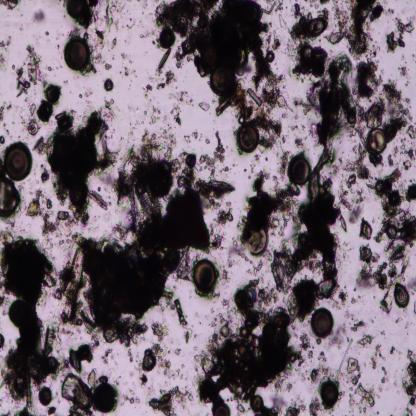Background material: (143, 0, 288, 150), (74, 210, 178, 330), (31, 96, 122, 222), (221, 278, 306, 399), (271, 198, 345, 308), (290, 54, 359, 138), (111, 129, 182, 210), (0, 310, 53, 405), (237, 171, 304, 244), (0, 229, 54, 319), (326, 0, 386, 58), (190, 336, 226, 412), (366, 168, 406, 226), (353, 245, 396, 291), (98, 311, 148, 348), (13, 43, 44, 97), (287, 40, 328, 79), (60, 372, 94, 416), (197, 133, 231, 176), (352, 57, 384, 102), (149, 387, 192, 416), (0, 171, 23, 222), (195, 174, 236, 202), (385, 17, 415, 55), (341, 143, 370, 180), (59, 291, 88, 326), (382, 79, 408, 117), (50, 258, 74, 298), (41, 211, 76, 238), (380, 273, 402, 314), (402, 348, 416, 406), (242, 152, 271, 180), (363, 97, 386, 131), (287, 11, 312, 42), (81, 310, 101, 348), (398, 209, 416, 250), (141, 342, 164, 374), (336, 340, 354, 380), (90, 30, 106, 74), (382, 114, 407, 142), (104, 0, 128, 29), (78, 0, 101, 30), (226, 238, 247, 269), (155, 353, 179, 380), (325, 322, 347, 351), (283, 392, 307, 416), (257, 394, 282, 416), (25, 190, 44, 218), (258, 285, 279, 310), (178, 254, 196, 283), (371, 216, 389, 244), (0, 33, 12, 74), (206, 224, 224, 251), (358, 382, 376, 407), (274, 373, 295, 394), (174, 88, 197, 107), (337, 182, 352, 211), (209, 306, 226, 330), (336, 241, 351, 268), (277, 150, 290, 180), (175, 299, 188, 328), (151, 320, 168, 342), (121, 389, 140, 408), (78, 344, 96, 364), (356, 331, 376, 349), (247, 259, 266, 277), (56, 324, 78, 339), (14, 405, 44, 416), (319, 361, 335, 381), (330, 154, 345, 174), (160, 289, 176, 307), (215, 206, 233, 222), (300, 328, 312, 351), (87, 364, 98, 389), (349, 206, 364, 224), (402, 183, 416, 202), (172, 102, 183, 126), (149, 104, 161, 126), (309, 396, 322, 416), (346, 357, 361, 374), (33, 5, 48, 22), (271, 29, 282, 52), (360, 218, 371, 240), (349, 187, 364, 203), (357, 124, 368, 145), (140, 83, 154, 99), (368, 154, 384, 168), (374, 343, 386, 361), (366, 42, 378, 60), (0, 0, 21, 10), (356, 104, 364, 128), (340, 289, 350, 308), (310, 367, 320, 386), (350, 319, 364, 332), (39, 165, 49, 183), (140, 28, 154, 40), (350, 372, 362, 386), (295, 137, 306, 152), (291, 3, 302, 18), (295, 367, 305, 383), (100, 348, 110, 364), (220, 267, 230, 283), (166, 70, 176, 86), (397, 65, 409, 78), (197, 99, 209, 112), (406, 124, 416, 139), (322, 403, 334, 415), (409, 276, 416, 296), (278, 14, 287, 29), (274, 0, 285, 12), (346, 124, 357, 136), (264, 34, 272, 50), (120, 51, 131, 62), (402, 159, 412, 171), (330, 298, 340, 310), (344, 306, 352, 321), (97, 375, 110, 384), (0, 102, 6, 121), (346, 175, 354, 189), (182, 133, 192, 144), (45, 407, 57, 416), (57, 238, 70, 246), (348, 393, 356, 406), (370, 357, 378, 370), (389, 153, 395, 169), (408, 149, 416, 161), (132, 118, 144, 126), (318, 352, 327, 362), (155, 82, 166, 90), (123, 64, 129, 78), (142, 371, 148, 385), (306, 350, 315, 359), (309, 0, 318, 9), (392, 146, 398, 159), (110, 39, 117, 50), (405, 407, 413, 416), (128, 350, 134, 362), (358, 405, 366, 414), (45, 199, 53, 208), (352, 144, 358, 155), (0, 133, 6, 144), (404, 96, 412, 104), (292, 331, 300, 339), (155, 68, 163, 76), (225, 298, 232, 307), (339, 372, 346, 381), (318, 0, 328, 6), (174, 349, 182, 356), (4, 103, 12, 110), (291, 324, 298, 332), (315, 338, 322, 346), (390, 346, 396, 355), (295, 77, 304, 83), (401, 142, 407, 151), (413, 298, 416, 316), (350, 296, 356, 305), (206, 136, 212, 145), (192, 129, 198, 138), (387, 8, 394, 15), (396, 317, 403, 324), (382, 366, 388, 374), (62, 80, 70, 86), (0, 380, 5, 389), (0, 412, 11, 416), (44, 30, 50, 37), (106, 63, 112, 70), (340, 390, 344, 400), (405, 80, 410, 88), (41, 82, 47, 88), (380, 330, 386, 336), (357, 294, 363, 300), (150, 73, 154, 81), (408, 114, 412, 122), (18, 26, 23, 32), (369, 317, 374, 323), (404, 323, 409, 329), (346, 336, 350, 343), (412, 53, 416, 60), (394, 380, 398, 387), (379, 385, 383, 392), (398, 350, 403, 355), (56, 400, 61, 405), (300, 6, 304, 12), (350, 386, 354, 392), (400, 138, 406, 142), (401, 55, 405, 61), (46, 66, 52, 70), (381, 377, 385, 383), (376, 393, 380, 399), (269, 22, 273, 28), (0, 402, 3, 409), (163, 115, 166, 122), (386, 377, 390, 382), (12, 65, 16, 70), (78, 94, 82, 99), (409, 178, 413, 183), (168, 126, 172, 131), (116, 380, 119, 386), (144, 110, 147, 116), (307, 375, 310, 381), (317, 38, 321, 42), (346, 380, 350, 384), (352, 408, 355, 413), (405, 150, 408, 155), (400, 152, 404, 155), (125, 383, 128, 387), (376, 411, 379, 415), (364, 362, 366, 368), (355, 389, 357, 394), (354, 287, 356, 292), (344, 286, 347, 289), (373, 296, 376, 299), (373, 220, 375, 224), (304, 0, 308, 2), (349, 410, 351, 413), (390, 413, 392, 416), (410, 106, 412, 108), (405, 62, 407, 64)
Cellulose filter fibre: (308, 114, 338, 201)
Diatom: (4, 141, 33, 180), (64, 36, 92, 72), (192, 258, 220, 291), (68, 246, 87, 294), (237, 123, 261, 155), (311, 307, 335, 337), (92, 383, 117, 411), (247, 228, 272, 256), (210, 67, 234, 95), (288, 157, 311, 185), (368, 128, 388, 155), (136, 182, 155, 210), (320, 380, 340, 405), (9, 302, 28, 326), (44, 323, 58, 355), (66, 0, 88, 20), (309, 16, 330, 36), (88, 190, 108, 210), (394, 283, 410, 308), (68, 348, 82, 376), (388, 244, 407, 264), (160, 29, 176, 50), (158, 47, 172, 70), (38, 101, 52, 122), (44, 355, 59, 374), (212, 402, 232, 416), (242, 287, 258, 304), (46, 84, 59, 104), (40, 387, 53, 406), (250, 396, 264, 412), (26, 120, 39, 135), (186, 153, 197, 169), (387, 223, 397, 240), (264, 50, 276, 64), (103, 78, 114, 92), (220, 325, 231, 337), (340, 215, 347, 233), (240, 326, 248, 338), (252, 337, 260, 348), (2, 218, 13, 225), (0, 334, 5, 348), (186, 331, 190, 343)
Fragment: (159, 187, 214, 251)
